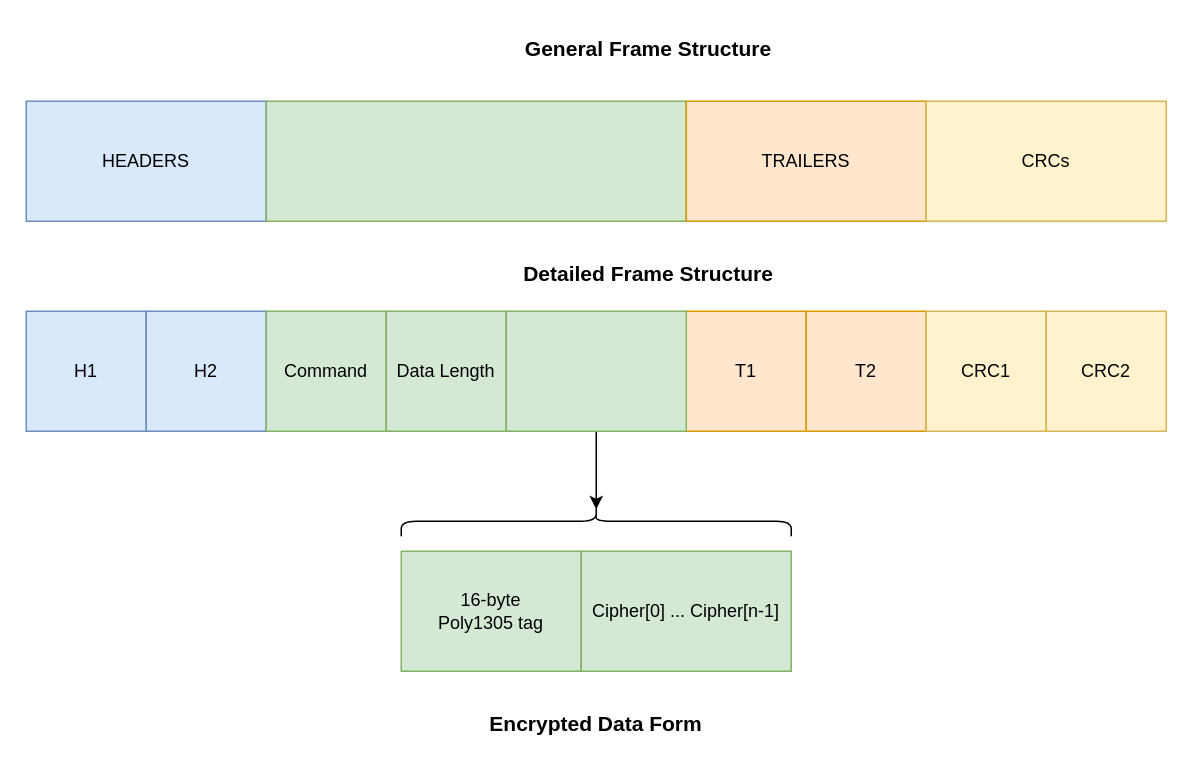
The diagram is 1193 pixels wide and 771 high, and some of its shapes have lost their labels. The centre of each missing label's shape, as x and y in pixels:
"BODY" goes at (x=475, y=160).
"Data[0] ... Data[n-1]" goes at (x=595, y=370).
